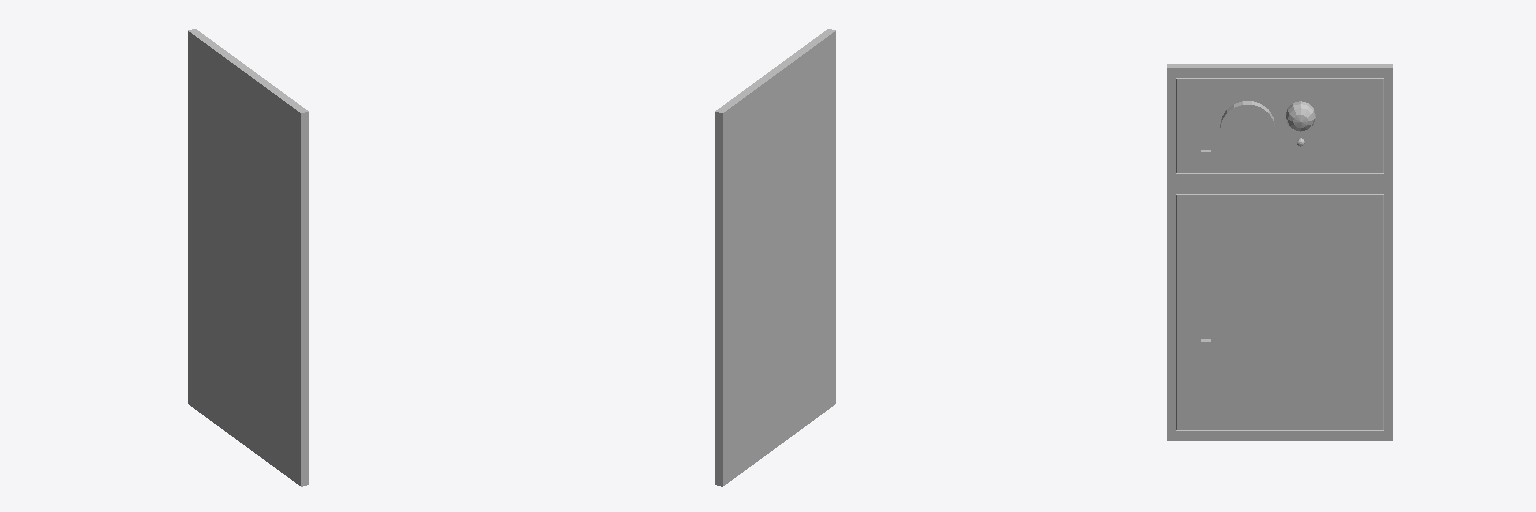
Rendered from FireHydrant.obj.
The picture shows the model from 3 angles: view 1: azimuth 30°, elevation 25°; view 2: azimuth 150°, elevation 25°; view 3: azimuth 270°, elevation 25°; orthographic projection.
Visible parts, largest first — view 1: Box018; view 2: Box018; view 3: Box018.
Part boxes in pixels (x1,y1,x2,y2): Box018: (188,29,308,486); Box018: (715,29,835,486); Box018: (1167,64,1392,440).
Bounding box in the file's own units: 11.64 × 181 × 99.8.